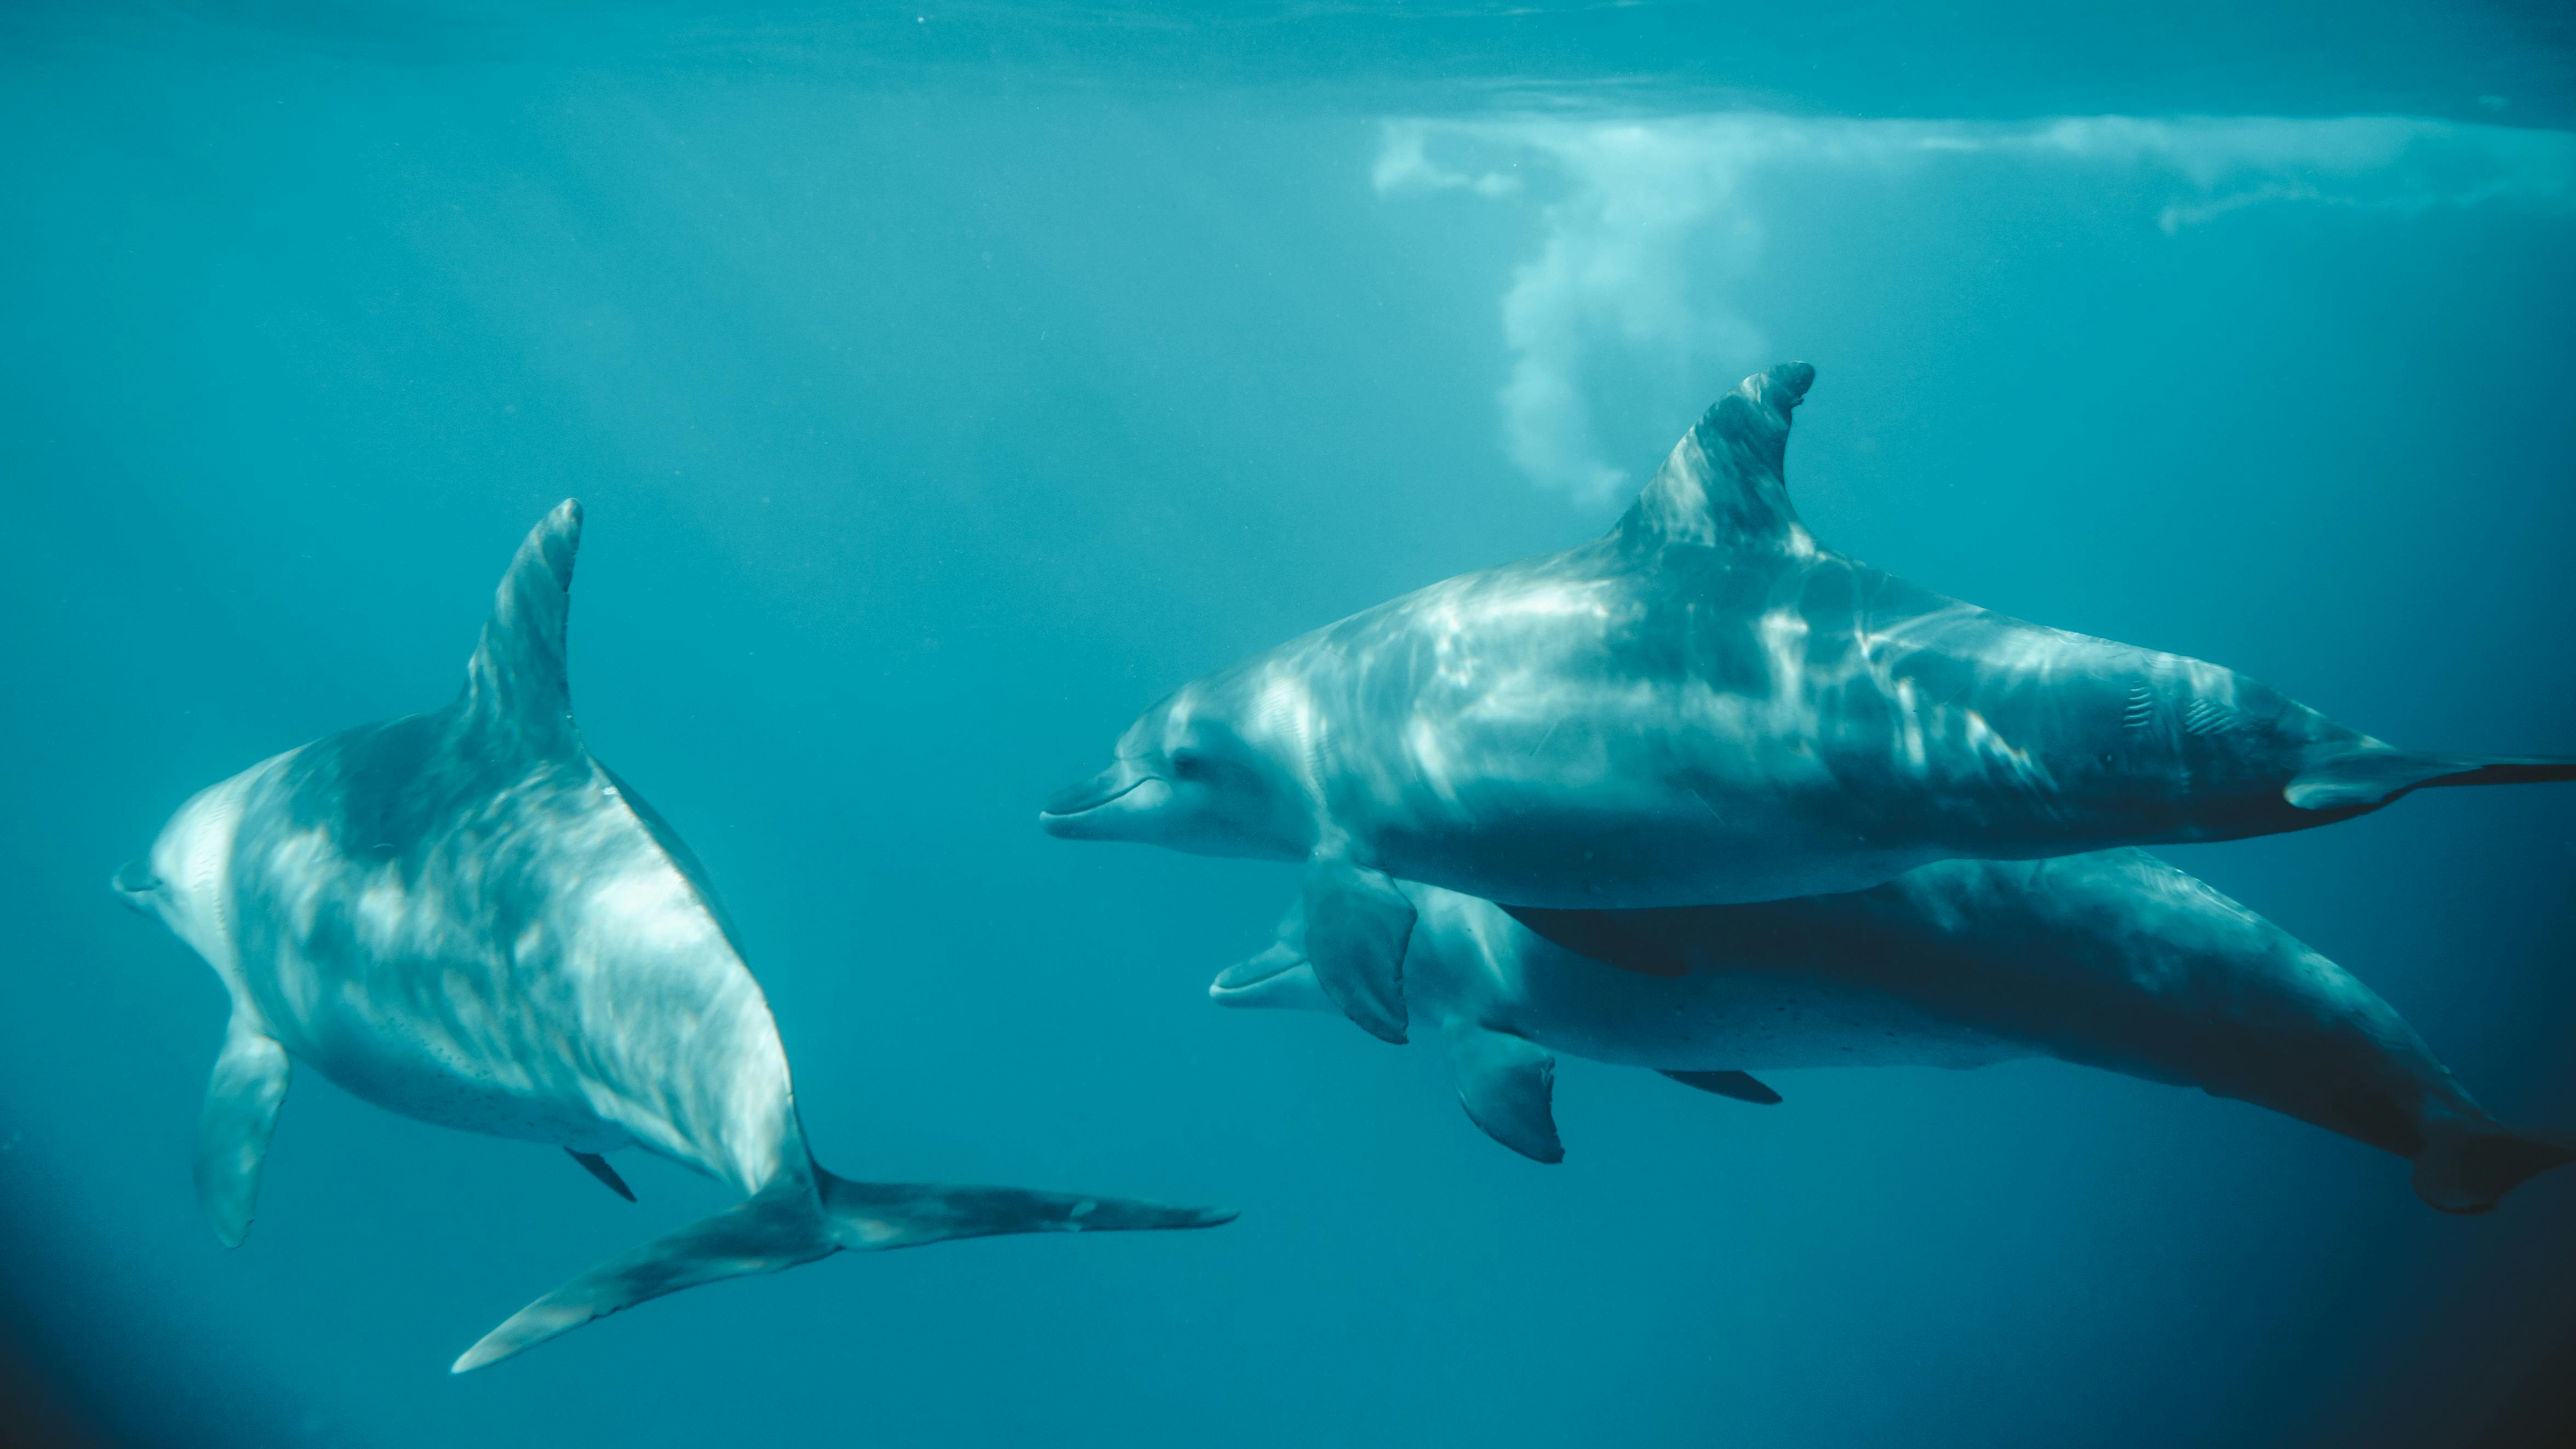dolphin: (1035, 354, 2574, 1051), (104, 495, 1238, 1376), (1207, 844, 2569, 1215)
